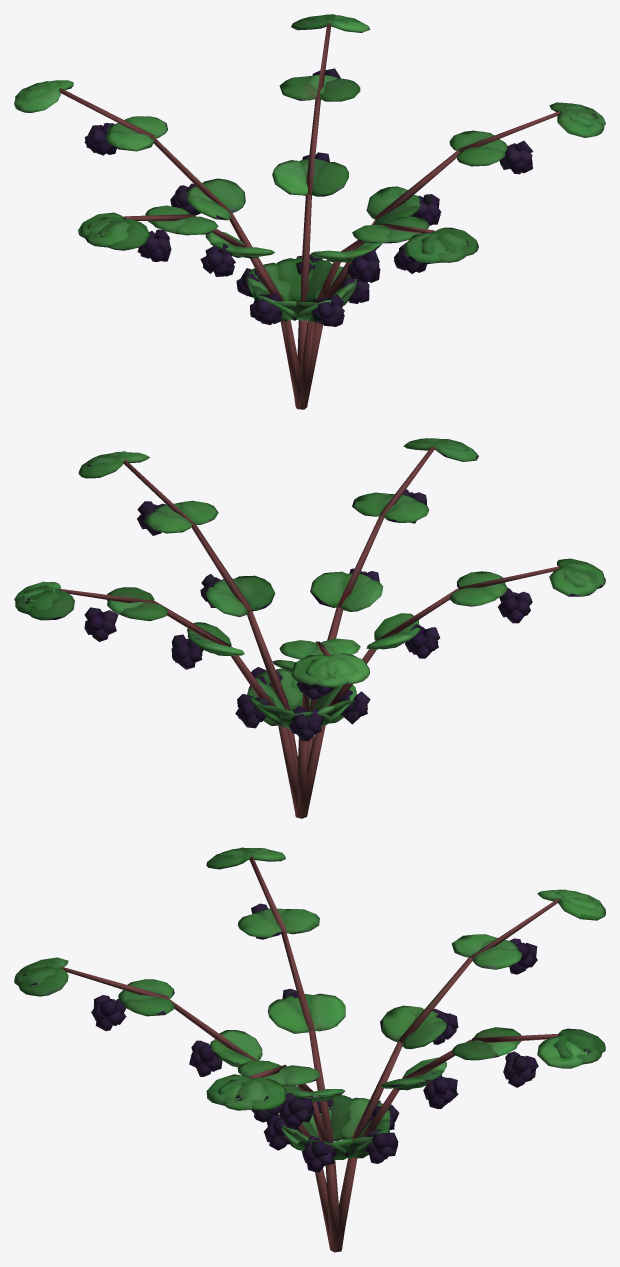
File: crop_blackberry.glb
The picture shows the model from 3 angles, top to bottom: view 1: azimuth 30°, elevation 25°; view 2: azimuth 150°, elevation 25°; view 3: azimuth 270°, elevation 25°; orthographic projection. The views are drawn at different scales.
Visible parts, largest first — view 1: crop_blackberry, fruit; view 2: crop_blackberry, fruit; view 3: crop_blackberry, fruit.
Boxes of the visible parts, x1,y1,x2,y2 form: crop_blackberry: (14,14,605,409); fruit: (84,68,533,326); crop_blackberry: (14,438,605,818); fruit: (84,489,532,741); crop_blackberry: (14,847,605,1252); fruit: (91,903,538,1172).
Bounding box in the file's own units: 0.4959 × 0.2521 × 0.4761.
1 material, 1 textured.
